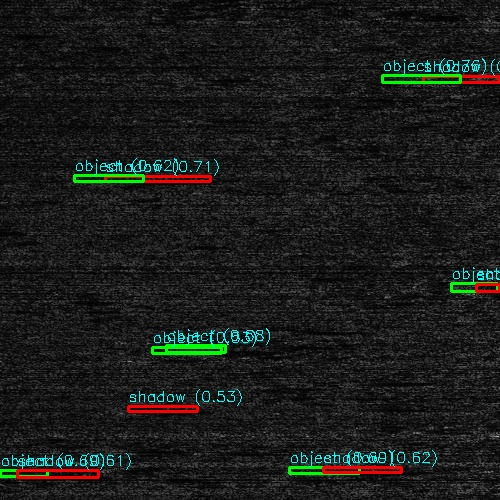rock: (88, 175, 151, 182), (290, 468, 373, 473), (251, 328, 292, 331), (490, 73, 500, 78)
shadow: (120, 175, 210, 182), (332, 468, 413, 473), (272, 328, 330, 331)
